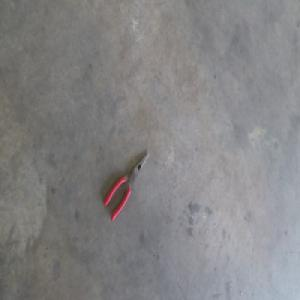Pliers: (102, 150, 148, 221)
